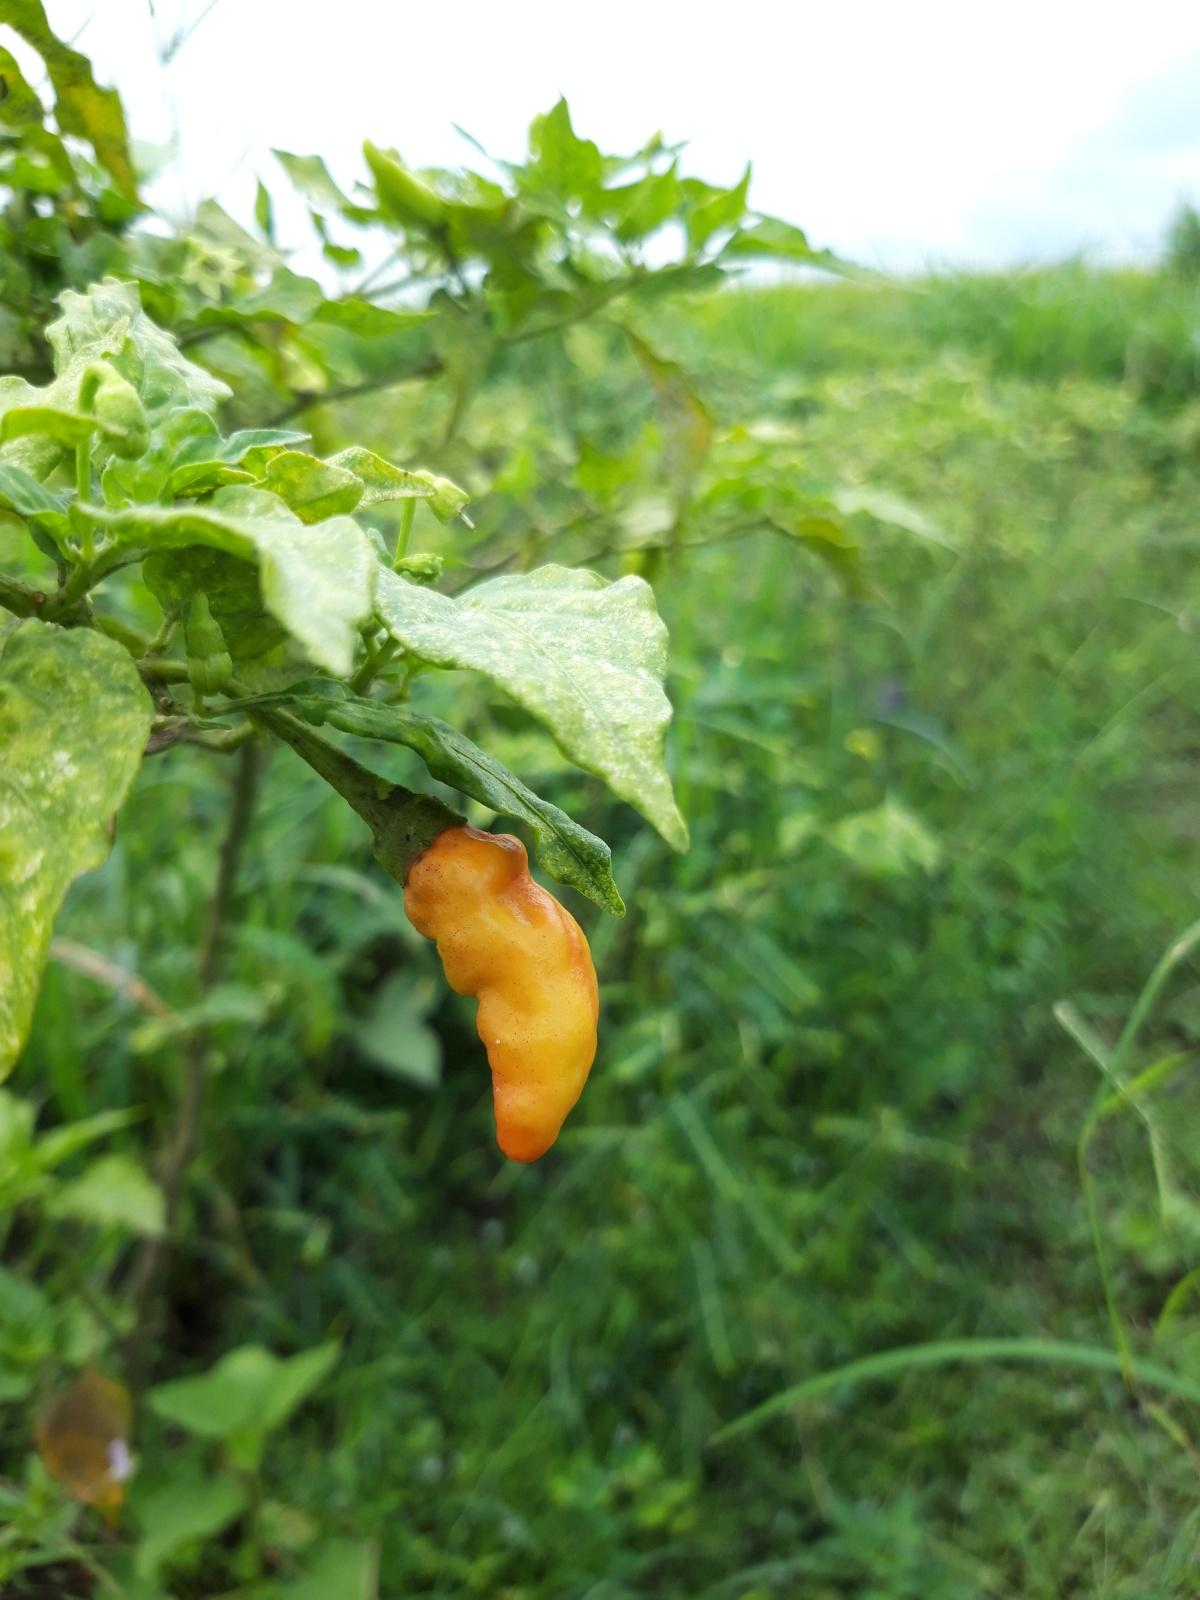cabai_normal: (372, 792, 605, 1164)
